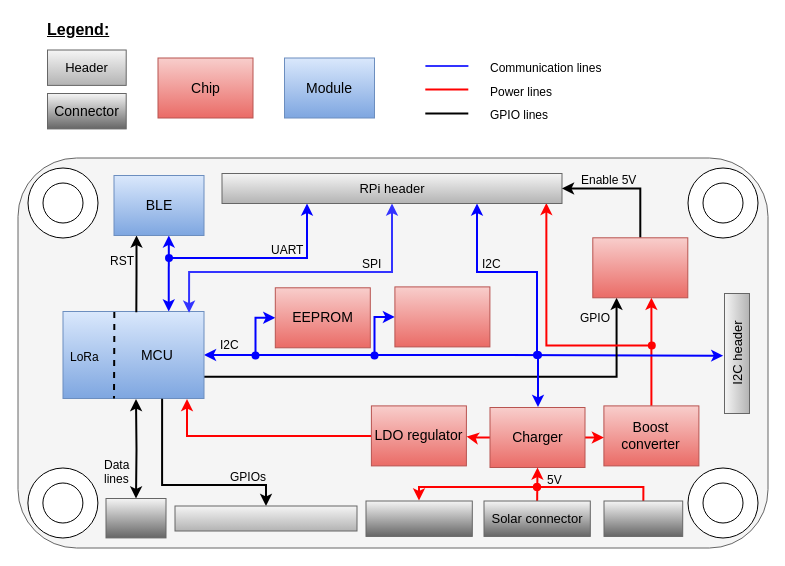
This 785x566 diagram has some shape labels left out. The centre of each missing label's shape, as x and y in pixels:
"Battery connector" belongs at point 418,518.
"GPIO header" belongs at point 265,518.
"Micro USB" belongs at point 643,518.
"MOSFET out" belongs at point 640,267.
"RTC" belongs at point 442,316.
"Tag connect" belongs at point 135,518.
